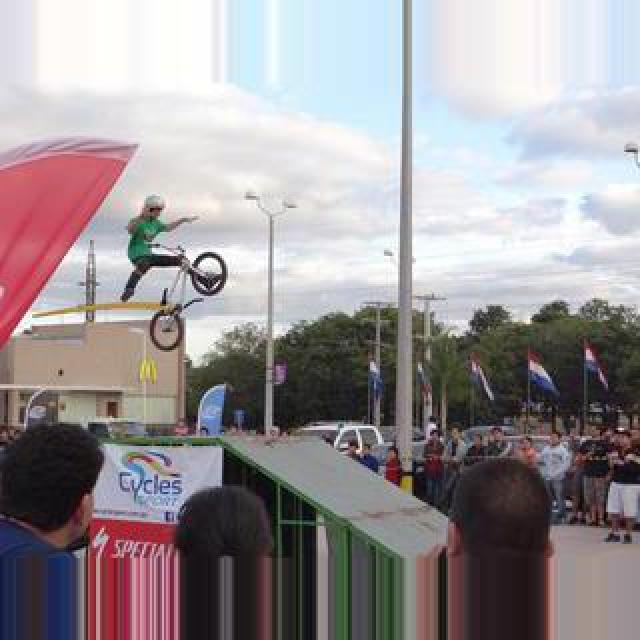MC-Bike: (0, 424, 104, 638), (120, 192, 202, 304), (604, 438, 640, 542), (540, 430, 572, 520), (422, 426, 446, 508)
Person: (142, 248, 228, 352)
